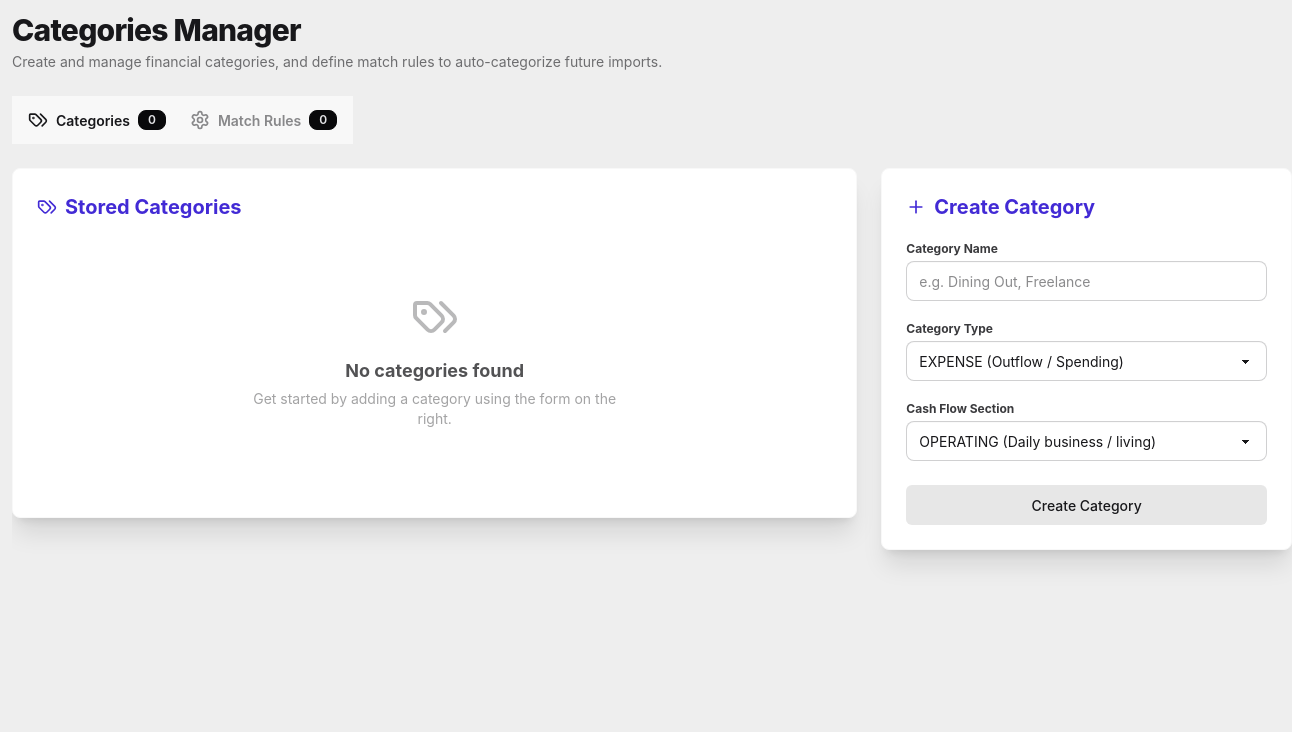
Test: CategoriesClient — creating a category › shows success toast after creating a category
The width and height of the screenshot is (1292, 732).
In the field with placeholder "e.g. Dining Out, Freelance": (1087, 281) [906, 261, 1267, 301], type "New Category"
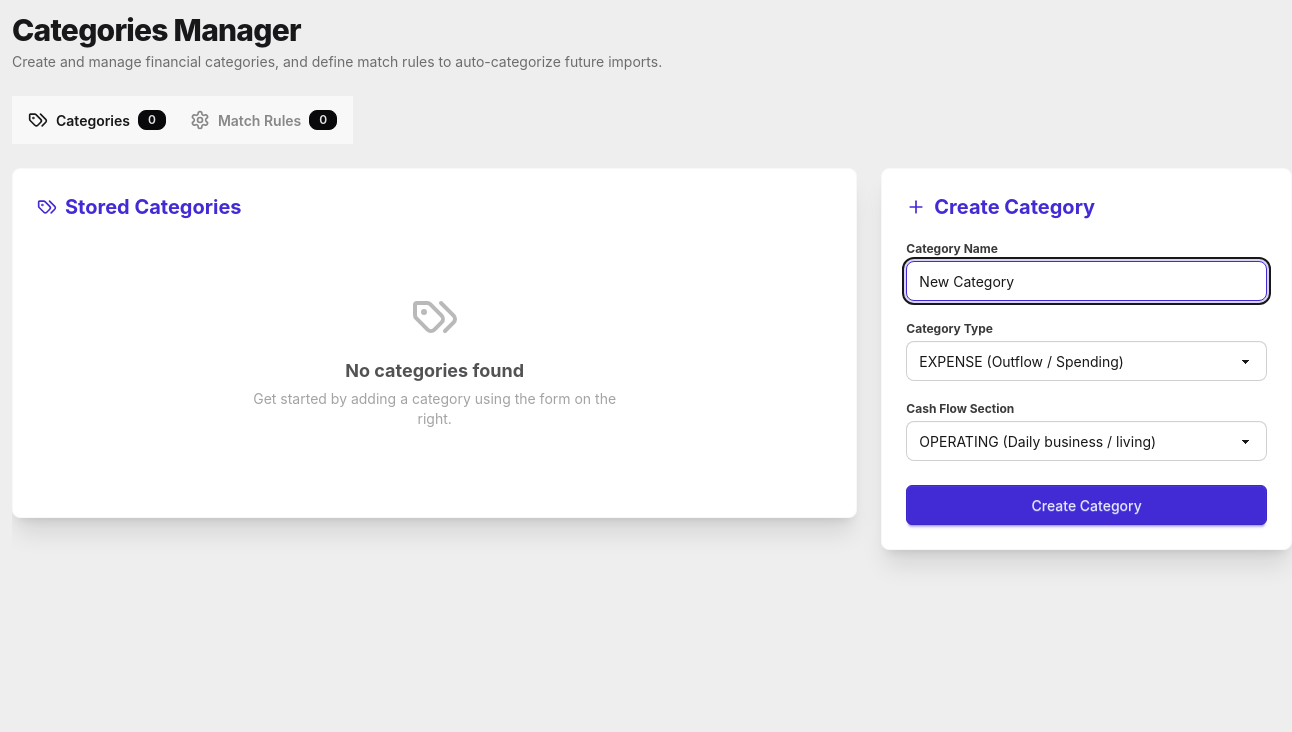
Click the button "Create Category": (1087, 505) [906, 485, 1267, 525]
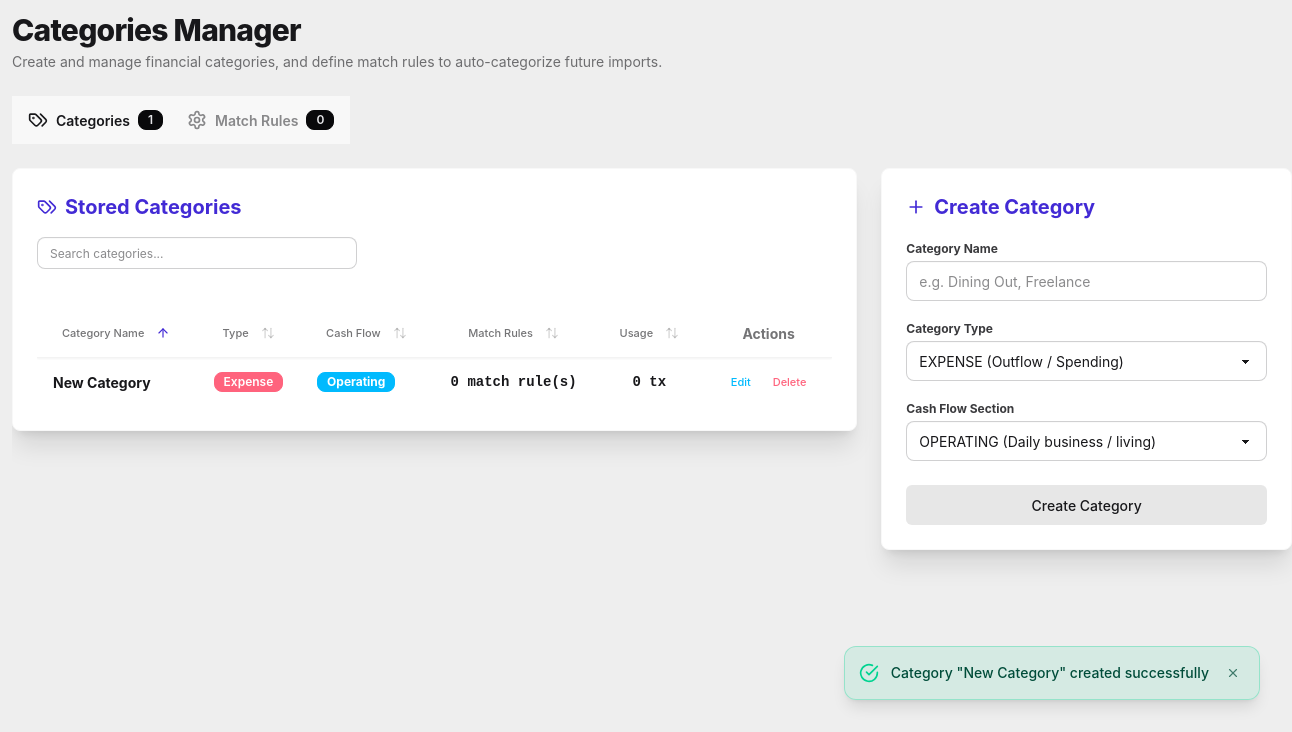
expect the text "Category \"New Category\" created successfully" is shown: met, box [891, 663, 1209, 683]
